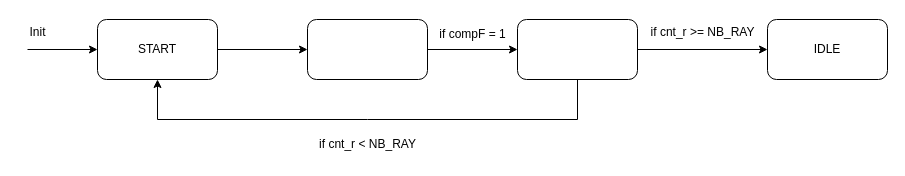
This 905x176 diagram has some shape labels left out. Each missing label, with the centre of its shape:
COMPUTE: point 367,49
COPY: point 577,49
